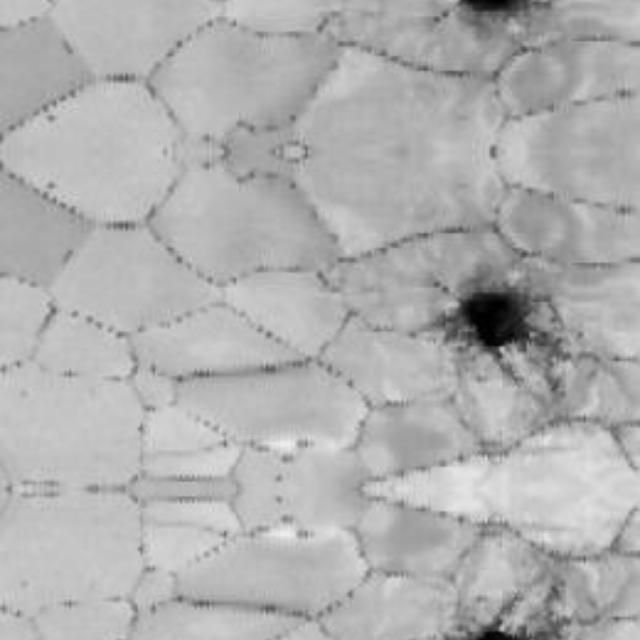good_void: (426, 269, 588, 396), (436, 580, 577, 640), (451, 0, 561, 33)
